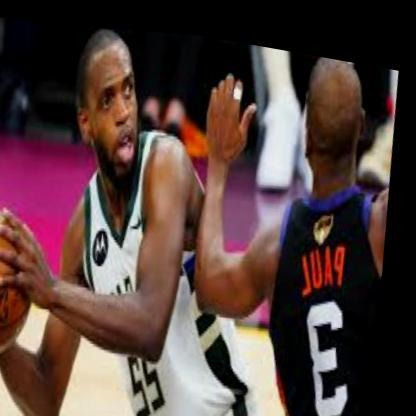basketball: (0, 200, 60, 364)
